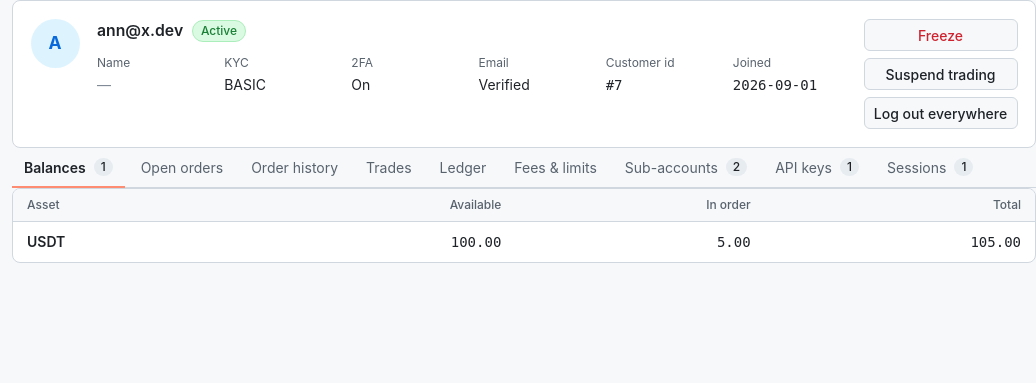
Customer detail › opens that customer's open orders, order history, trades and ledger in tabs, not a link away
The width and height of the screenshot is (1036, 383).
Expected: the heading "ann@x.dev" is shown, x1=97 y1=19 x2=183 y2=44
Click the tab "Open orders": (182, 168) x1=129 y1=148 x2=235 y2=188
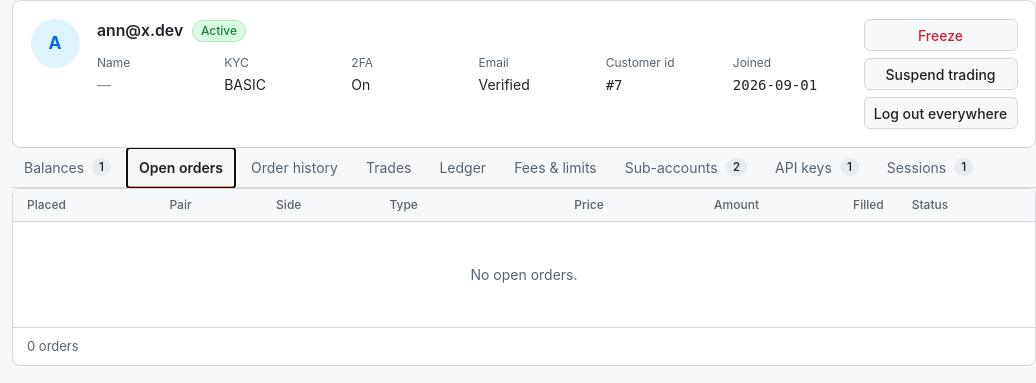
Expected: the text "No open orders." is shown, x1=470 y1=266 x2=578 y2=283
Click the tab "Order history": (294, 168) x1=239 y1=148 x2=350 y2=188
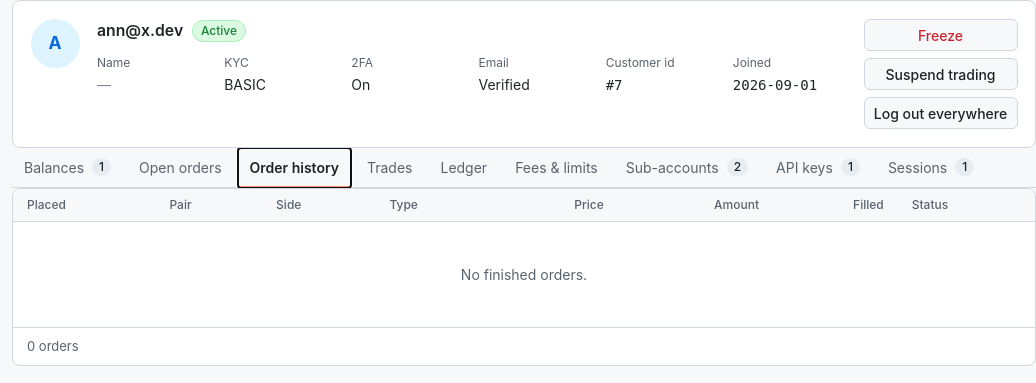
Expected: the text "No finished orders." is shown, x1=461 y1=266 x2=587 y2=283
Click the tab "Trades": (390, 168) x1=355 y1=148 x2=424 y2=188
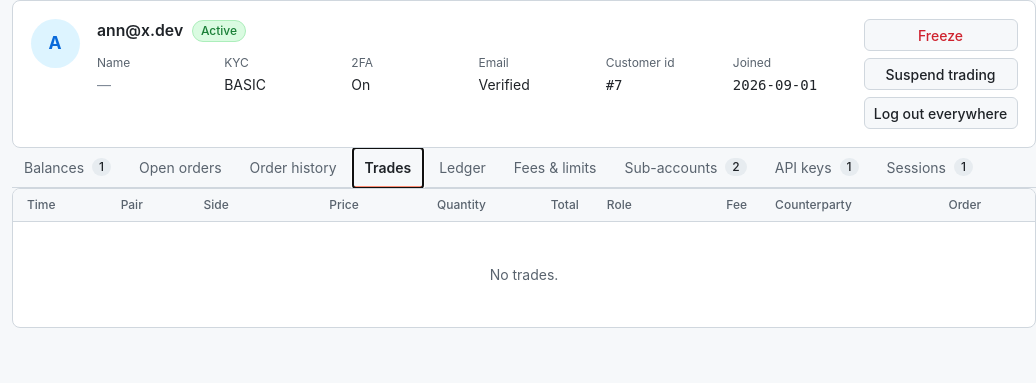
Expected: the text "No trades." is shown, x1=490 y1=266 x2=558 y2=283
Click the tab "Ledger": (463, 168) x1=427 y1=148 x2=498 y2=188
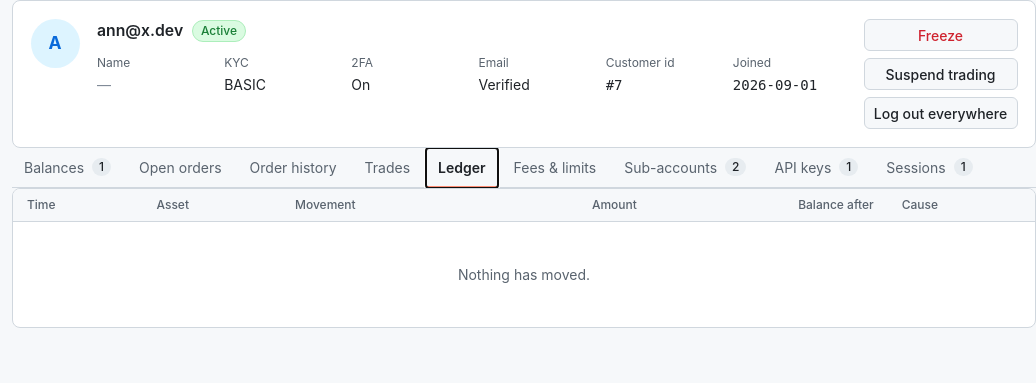
Expected: the text "Nothing has moved." is shown, x1=458 y1=266 x2=590 y2=283
